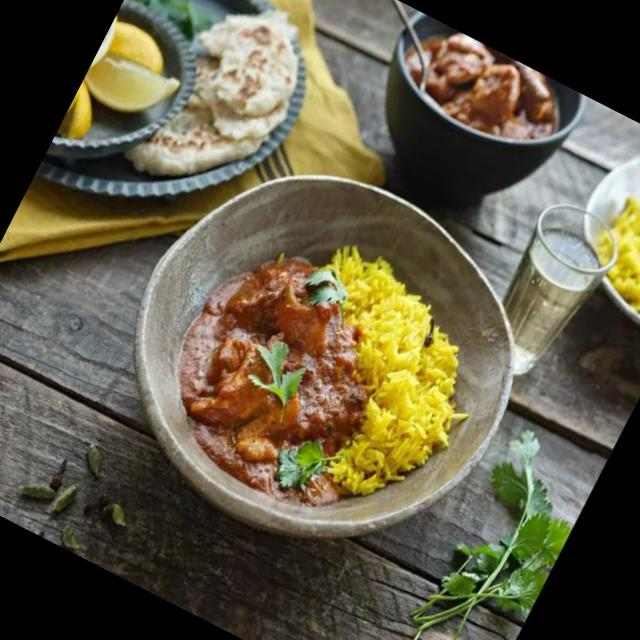chicken: (150, 232, 387, 494), (394, 15, 592, 162)
rice: (287, 252, 522, 544), (579, 136, 640, 332)
